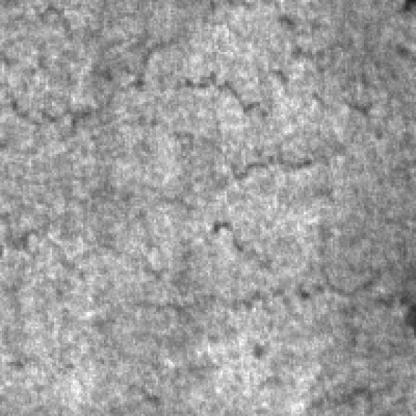crazing: (2, 204, 379, 356), (2, 69, 381, 181)
